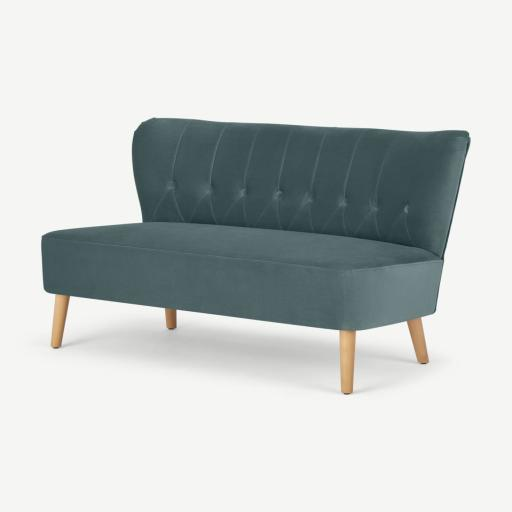back_cushion: (133, 118, 469, 258)
base: (44, 239, 441, 330)
legs: (340, 331, 356, 394), (408, 318, 428, 363), (51, 295, 68, 347), (165, 309, 176, 329)
one-seater: (42, 118, 469, 394)
seat_cushion: (44, 222, 438, 270)
